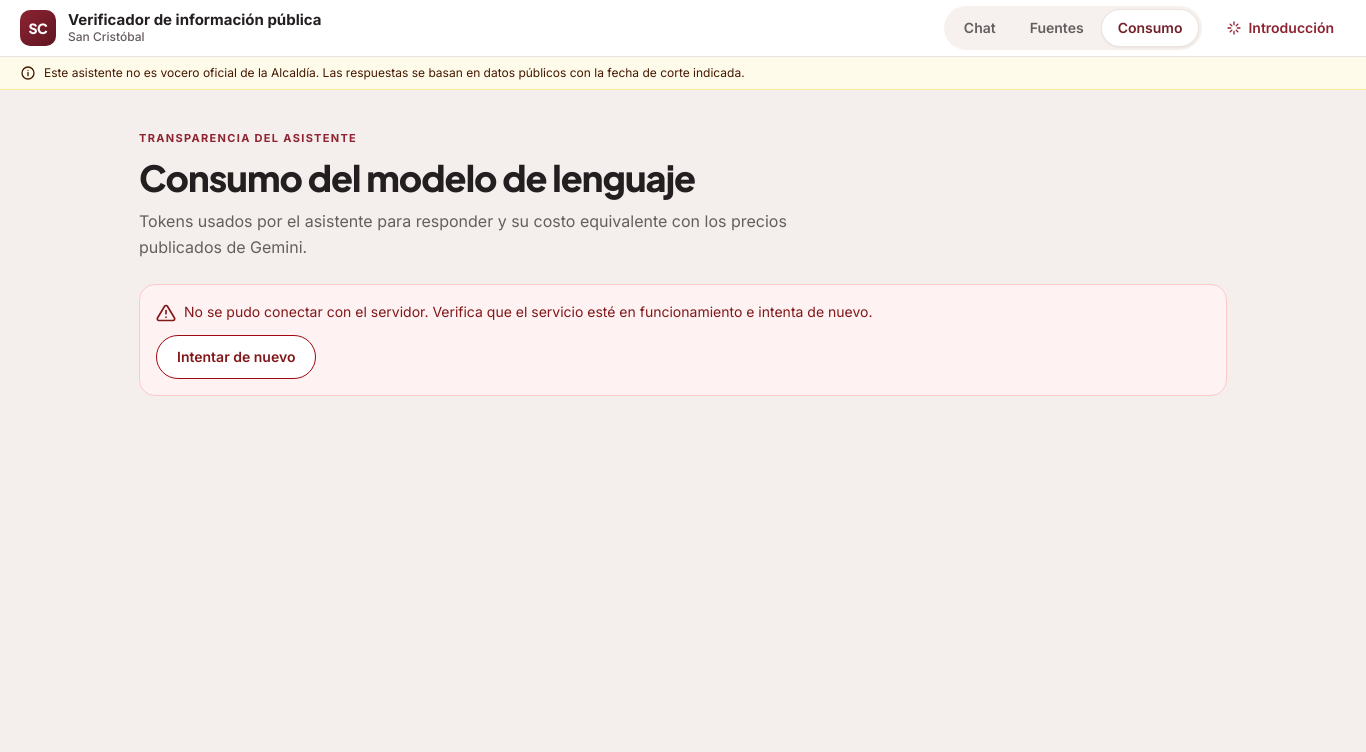
Usage page › shows an error with retry when the backend is down
Expected: the message shows "No se pudo conectar con el servidor", 184,302 -> 872,320
Click the button "Intentar de nuevo". click: (236, 357)
box: 156,335 -> 316,379
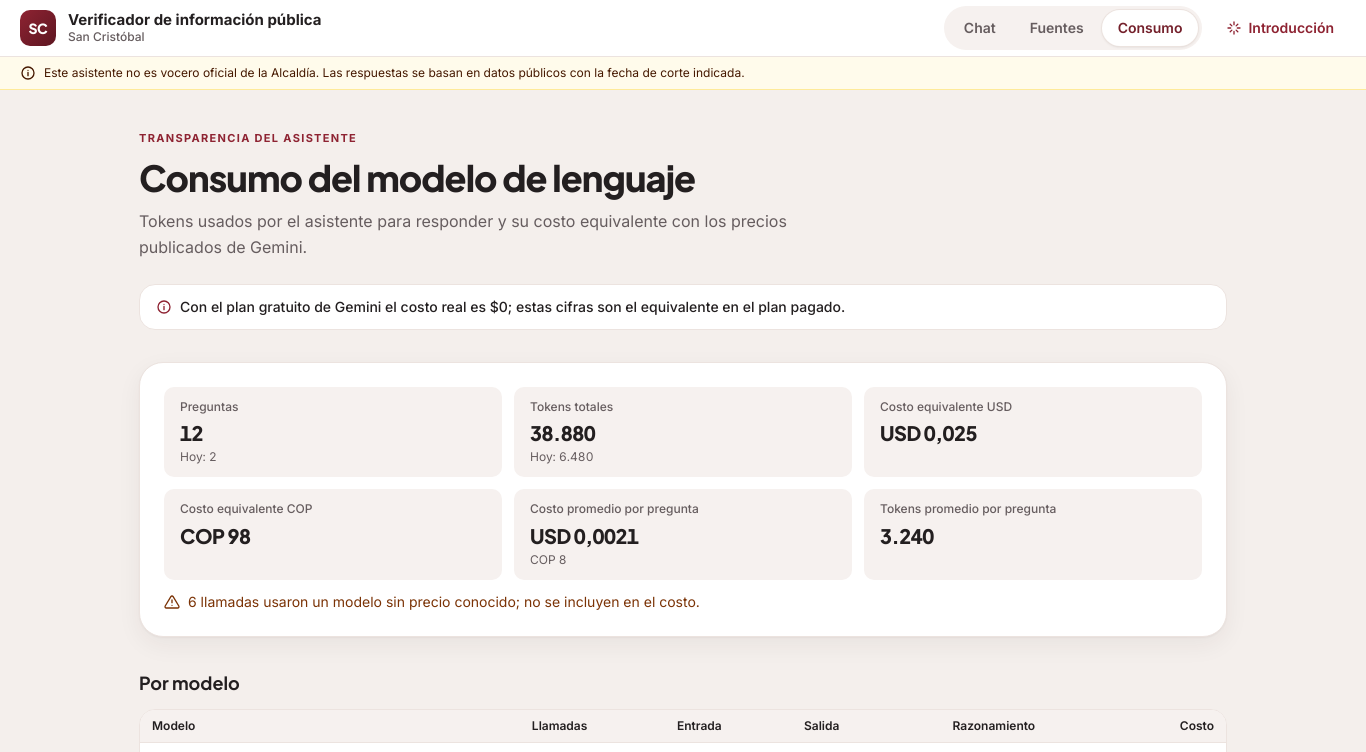
Result: the text "Costo equivalente USD" is shown at 880,398 -> 1012,414
